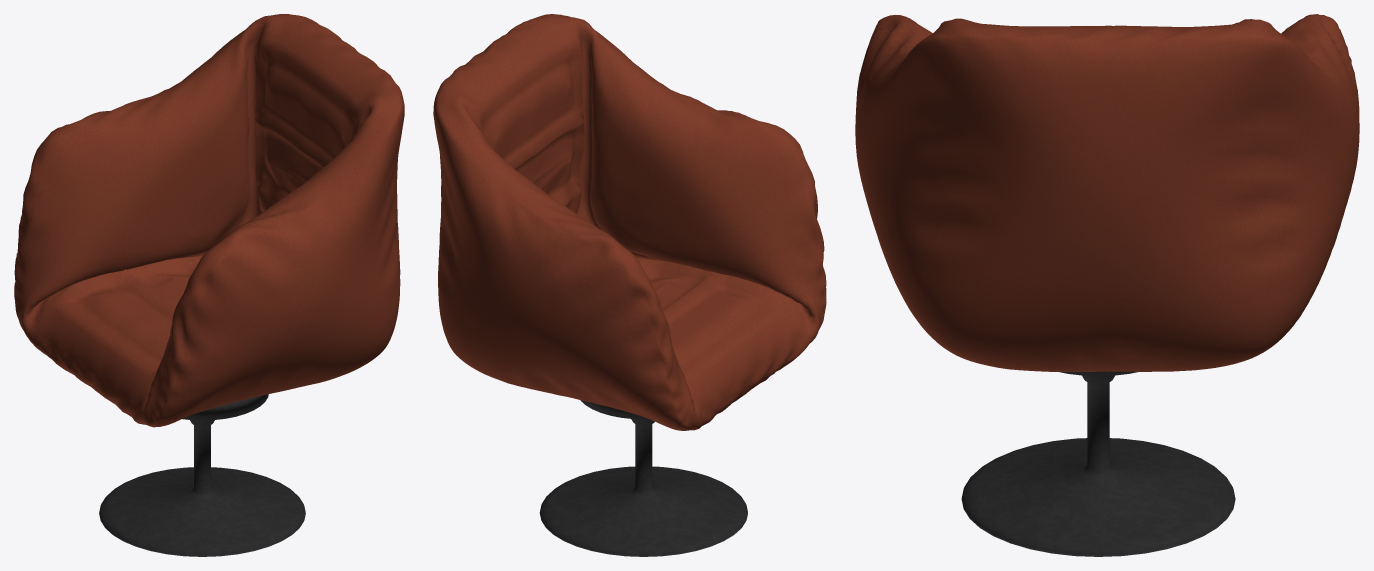
The model's file is office_chair.glb.
3 views of the same model, side by side, from view 1: azimuth 30°, elevation 25°; view 2: azimuth 150°, elevation 25°; view 3: azimuth 270°, elevation 25° (orthographic). The views are drawn at different scales.
Parts seen in each view (by area): view 1: Cube, Cube.001; view 2: Cube, Cube.001; view 3: Cube, Cube.001.
Boxes of the visible parts, x1,y1,x2,y2 form: Cube: (14,14,404,427); Cube.001: (99,394,305,556); Cube: (433,14,826,430); Cube.001: (539,400,747,556); Cube: (855,14,1359,371); Cube.001: (961,371,1235,556).
Size of what is drawn, in the model's own units: 2.13 by 2.95 by 2.39.
Materials: 2 (2 with a texture image).
